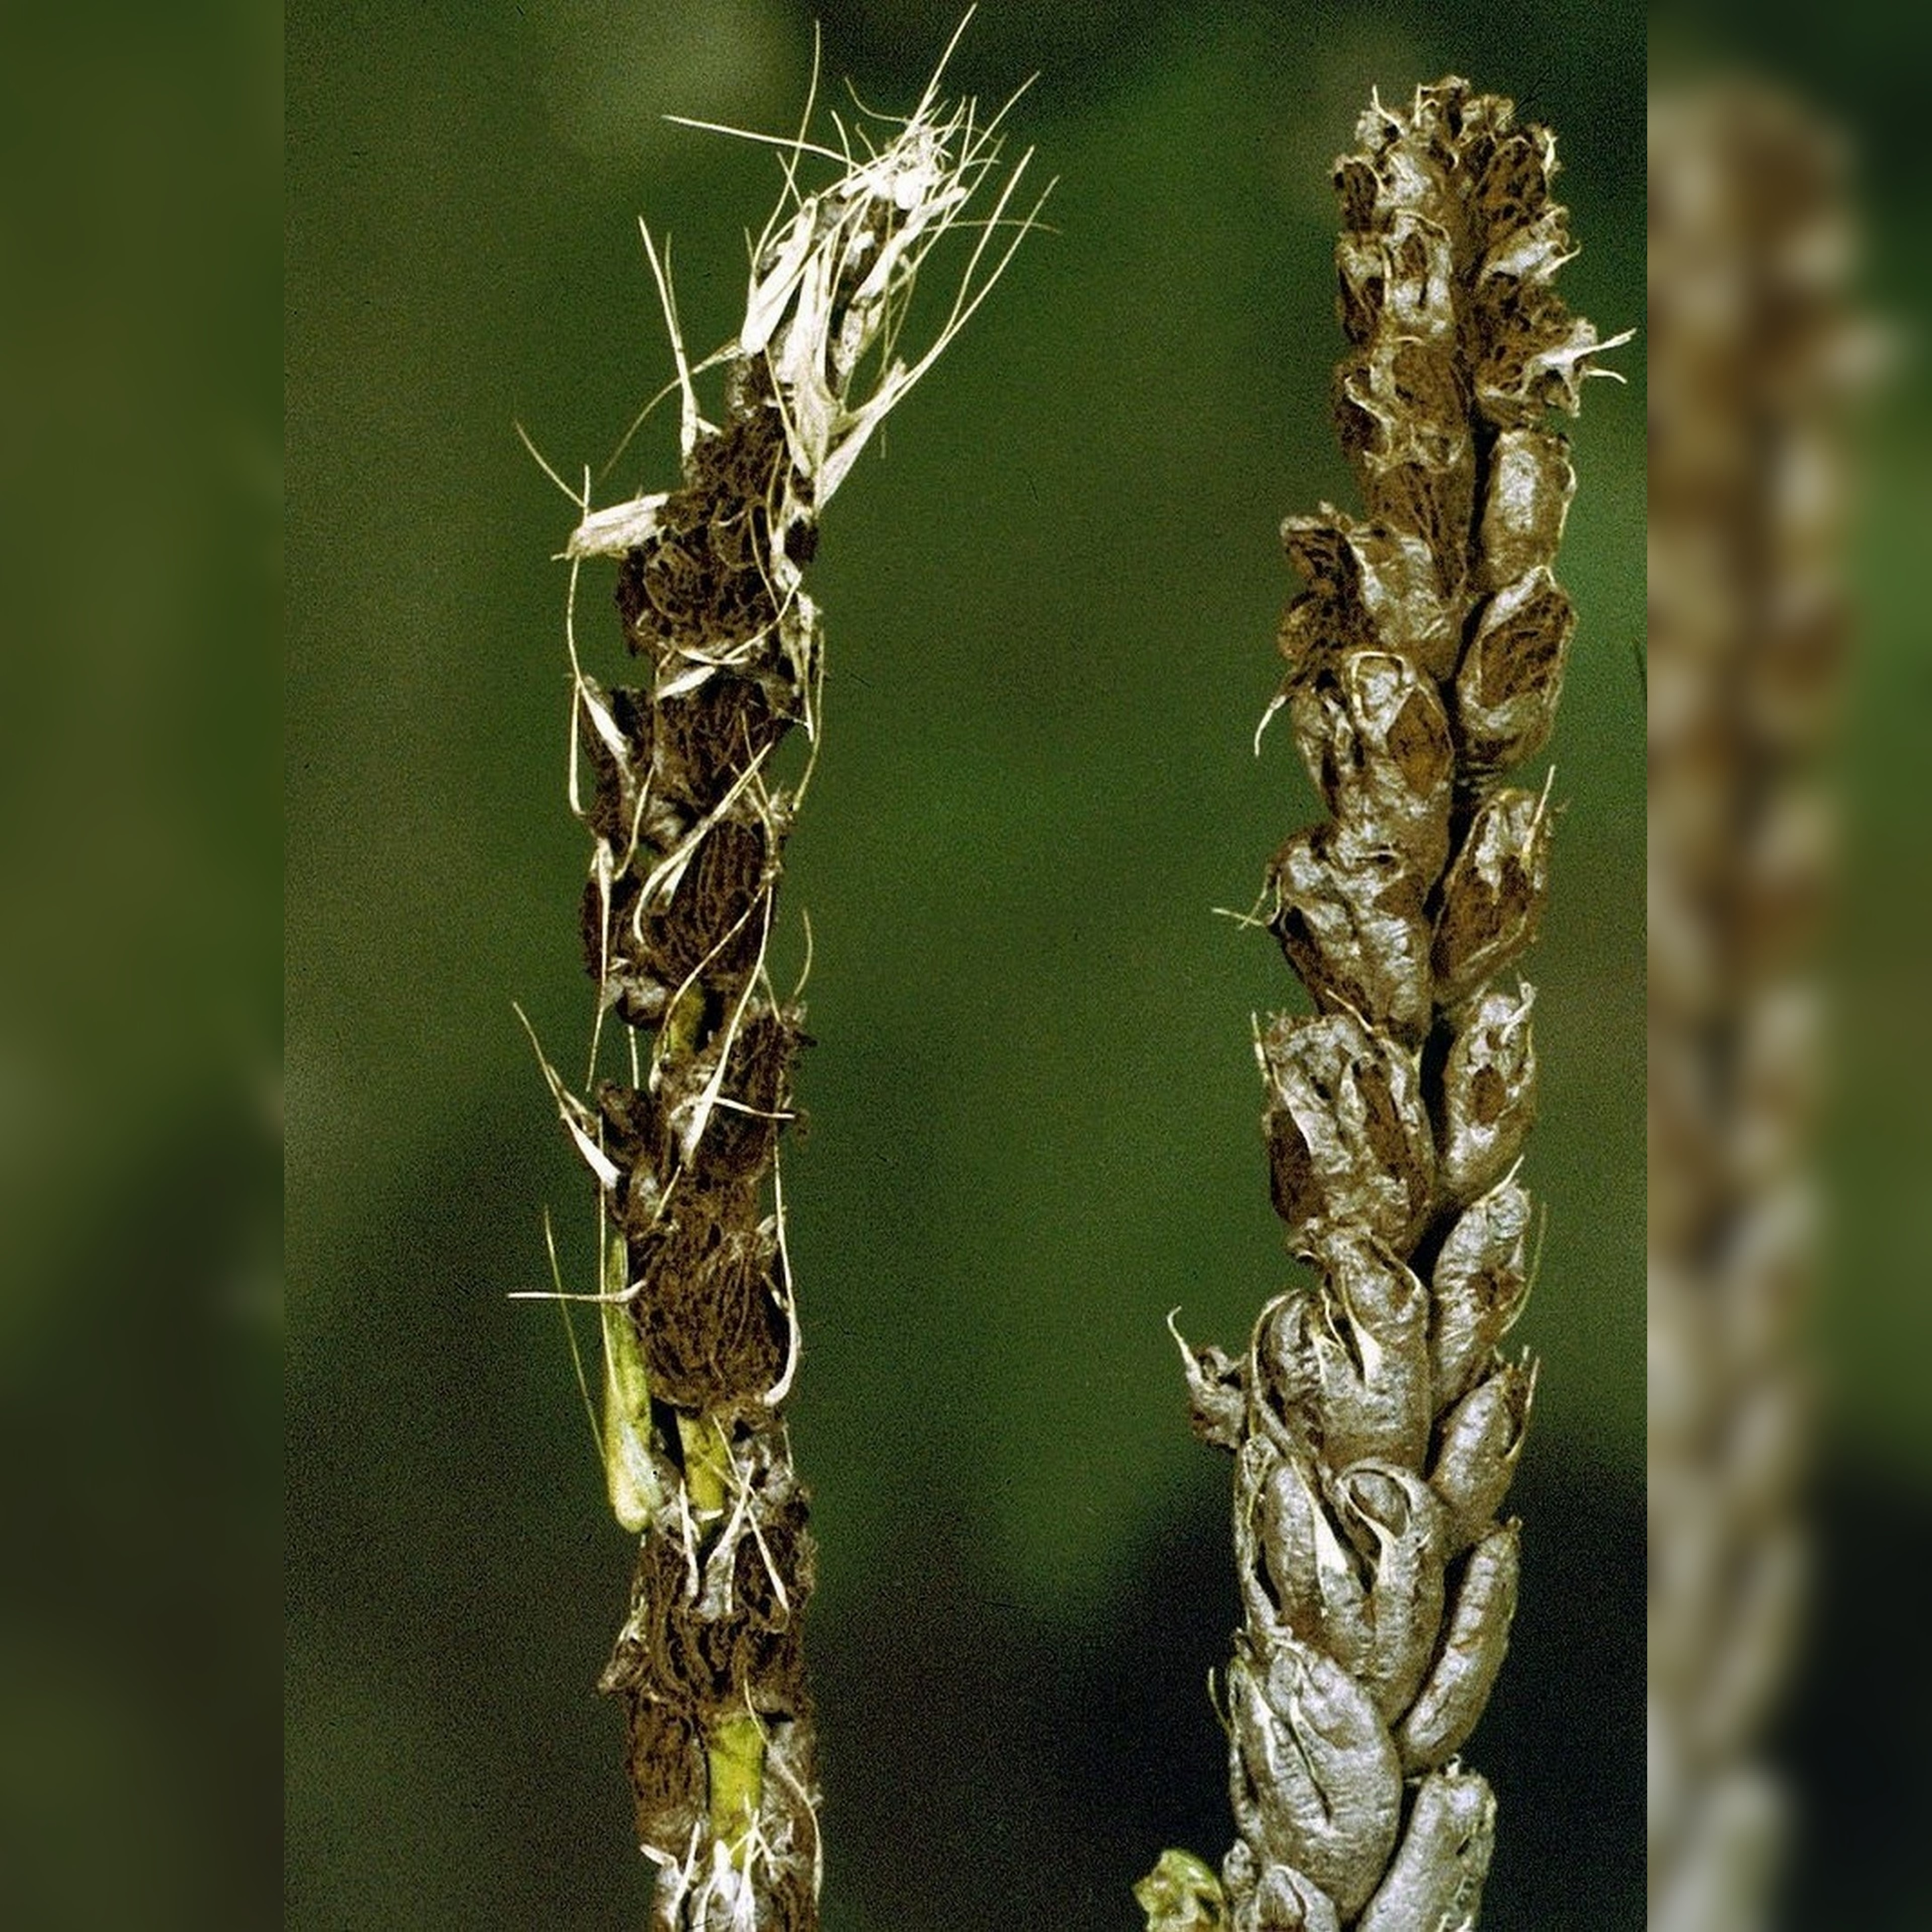Wheat Loose Smut: (487, 87, 991, 1863), (1129, 73, 1617, 1897)
